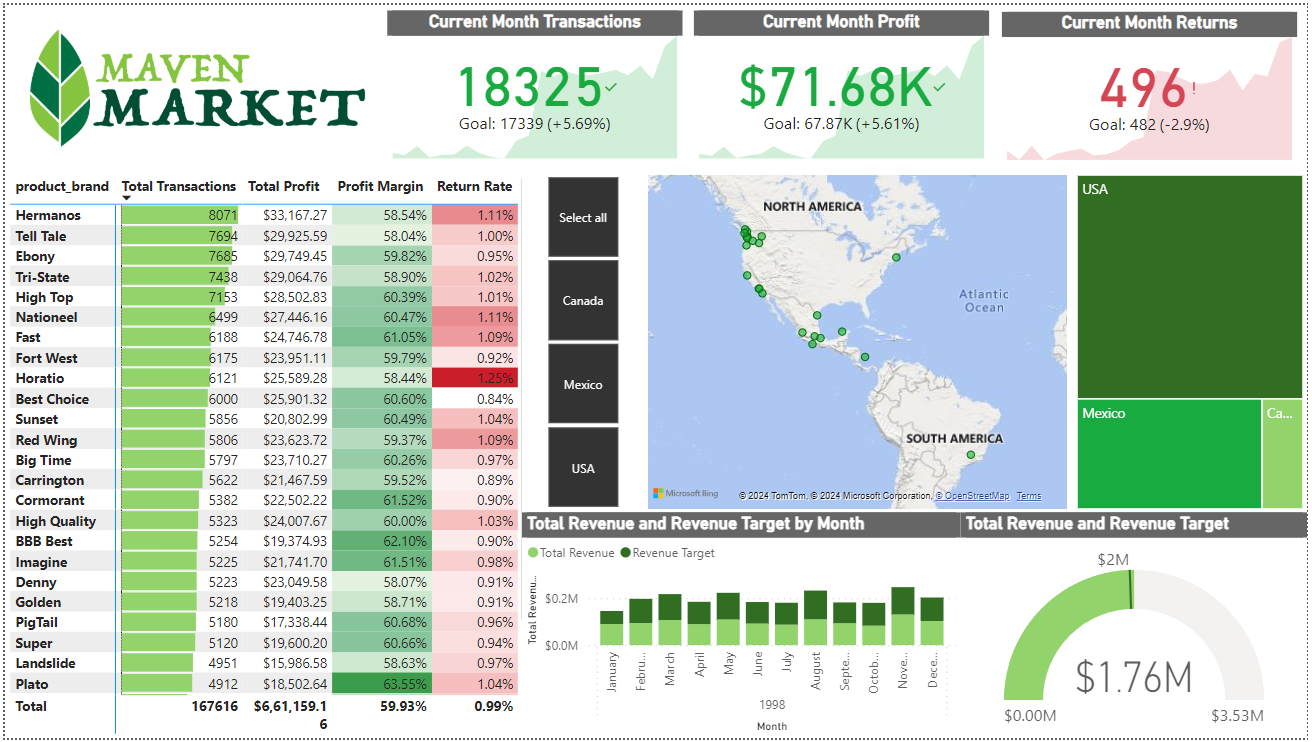

This screenshot's page, from the dashboard's own definition file:
{"tool":"powerbi","page":{"name":"Topline Performance","canvas":[1280,720],"ordinal":0},"visuals":[{"type":"image","box":[9.9,0,356.3,162],"z":0},{"type":"pivotTable","fields":{"Values":["Products.Total Transactions","Transaction_Data.Total Profit","Transaction_Data.Profit Margin","Products.Return Rate"],"Rows":["Products.product_brand"]},"box":[0,162,521.1,559.2],"z":1000},{"type":"kpi","title":"Current Month Transactions","fields":{"Indicator":["Products.Total Transactions"],"TrendLine":["Calendar.Start of Month"],"Goal":["Transaction_Data.Last Month Transactions"]},"box":[376.1,5.6,290.1,150.7],"z":2000},{"type":"kpi","title":"Current Month Profit","fields":{"Goal":["Transaction_Data.Last Month Profit"],"Indicator":["Transaction_Data.Total Profit"],"TrendLine":["Calendar.Start of Month"]},"box":[677.5,5.6,290.1,150.7],"z":3000},{"type":"kpi","title":"Current Month Returns","fields":{"TrendLine":["Calendar.Start of Month"],"Goal":["Transaction_Data.Last Month Returns"],"Indicator":["Products.Total Returns"]},"box":[980.3,7,290.1,150.7],"z":4000},{"type":"map","title":"Total Transactions by store_city","fields":{"Category":["Stores.store_city"]},"box":[627.1,162,421.8,338],"z":5000},{"type":"slicer","fields":{"Values":["Stores.store_country"]},"box":[508.5,162,118.3,338],"z":6000},{"type":"treemap","fields":{"Group":["Stores.store_country","Stores.store_state","Stores.store_city"],"Values":["Products.Total Transactions"]},"box":[1048.9,162,231.8,338],"z":7000},{"type":"columnChart","title":"Total Revenue and Revenue Target by Month","fields":{"Category":["Calendar.Start of Week.Variation.Date Hierarchy.Year","Calendar.Start of Week.Variation.Date Hierarchy.Month"],"Y":["Transaction_Data.Total Revenue","Transaction_Data.Revenue Target"]},"box":[508.5,498.6,431,221.1],"z":8000},{"type":"gauge","fields":{"Y":["Transaction_Data.Total Revenue"],"TargetValue":["Transaction_Data.Revenue Target"]},"box":[939.4,498.6,340.8,221.1],"z":9000}]}

Visuals, with their boxes in screenshot pixels (x1, y1, x2, y2), scaled from the page's 1280x720 canvas onto the 1312x742 screenshot:
image: {"left": 10, "top": 0, "right": 375, "bottom": 167}
pivotTable - Products.Total Transactions x Transaction_Data.Total Profit: {"left": 0, "top": 167, "right": 534, "bottom": 741}
"Current Month Transactions" kpi: {"left": 386, "top": 6, "right": 683, "bottom": 161}
"Current Month Profit" kpi: {"left": 694, "top": 6, "right": 992, "bottom": 161}
"Current Month Returns" kpi: {"left": 1005, "top": 7, "right": 1302, "bottom": 163}
"Total Transactions by store_city" map: {"left": 643, "top": 167, "right": 1075, "bottom": 515}
slicer - Stores.store_country: {"left": 521, "top": 167, "right": 642, "bottom": 515}
treemap - Stores.store_country x Stores.store_state: {"left": 1075, "top": 167, "right": 1311, "bottom": 515}
"Total Revenue and Revenue Target by Month" columnChart: {"left": 521, "top": 514, "right": 963, "bottom": 741}
gauge - Transaction_Data.Total Revenue x Transaction_Data.Revenue Target: {"left": 963, "top": 514, "right": 1311, "bottom": 741}
